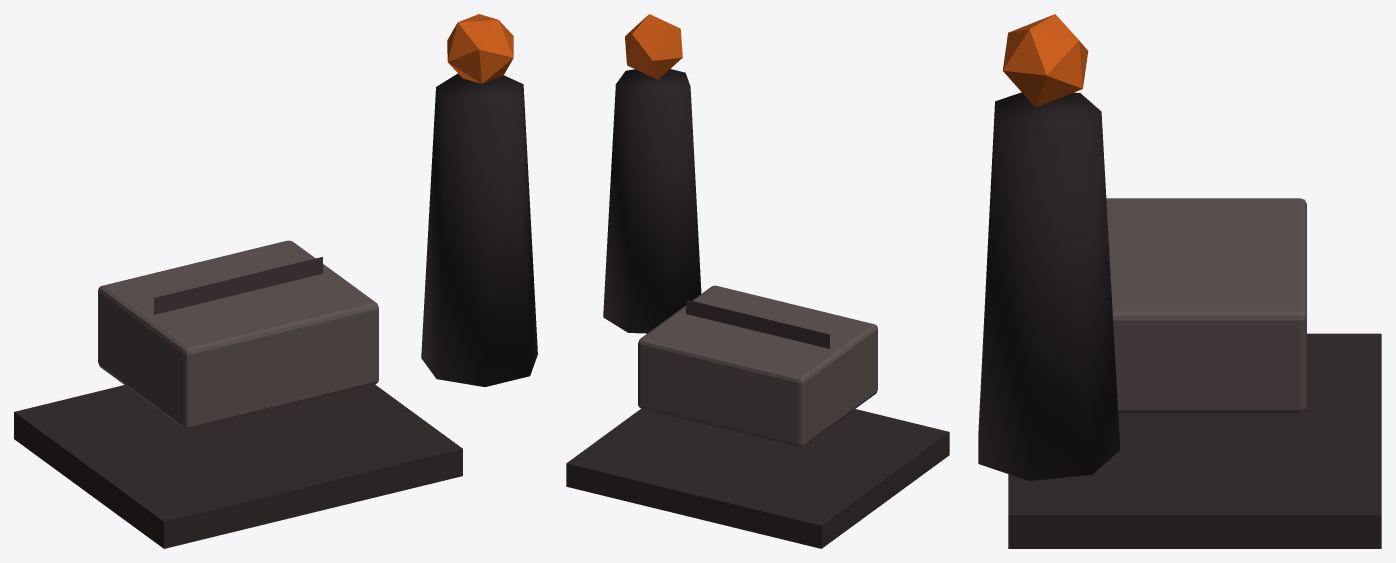
File: ember_ash_mine.glb
3 renders of one model, left to right at view 1: azimuth 30°, elevation 25°; view 2: azimuth 150°, elevation 25°; view 3: azimuth 270°, elevation 25°, orthographic. The views are drawn at different scales.
Parts seen in each view (by area): view 1: ember_ash_mine; view 2: ember_ash_mine; view 3: ember_ash_mine.
Part boxes in pixels (bbox=[...]): ember_ash_mine: bbox=[14, 14, 537, 548]; ember_ash_mine: bbox=[566, 14, 949, 548]; ember_ash_mine: bbox=[978, 14, 1381, 548].
Bounding box in the file's own units: 29.4 × 32.29 × 21.6.
